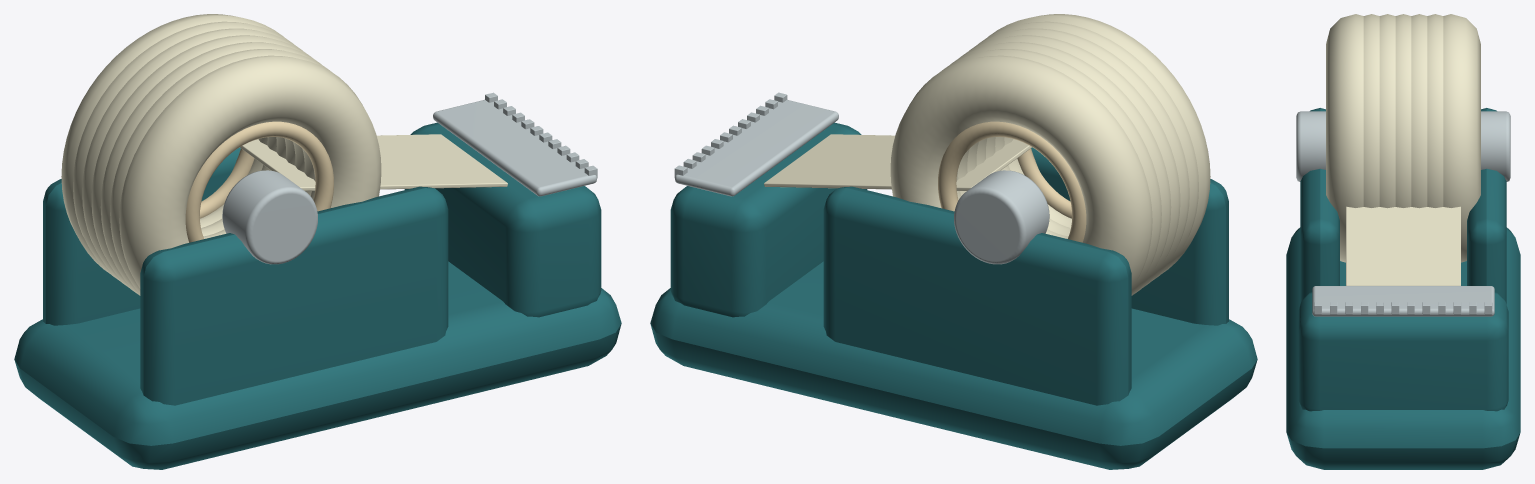
The model's file is tape-dispenser.glb.
3 views of the same model, side by side, from view 1: azimuth 30°, elevation 25°; view 2: azimuth 150°, elevation 25°; view 3: azimuth 270°, elevation 25° (orthographic). The views are drawn at different scales.
Visible parts, largest first — view 1: Tape dispenser weighted base, Tape dispenser side, Tape roll, Cutting pedestal, Tape dispenser side.001, Steel cutting blade, Tape axle, Unspooled tape, Tape roll.006, Cardboard core, Tape roll.005, Tape roll.004 (+4 smaller); view 2: Tape dispenser weighted base, Tape dispenser side.001, Tape roll.006, Cutting pedestal, Tape dispenser side, Steel cutting blade, Tape axle.001, Unspooled tape, Tape roll, Cardboard core.001, Tape roll.001, Tape roll.002 (+4 smaller); view 3: Cutting pedestal, Tape dispenser weighted base, Unspooled tape, Tape roll, Tape roll.006, Steel cutting blade, Tape dispenser side, Tape dispenser side.001, Tape roll.001, Tape roll.002, Tape roll.003, Tape roll.004 (+3 smaller).
Boxes of the visible parts, <box> form: Tape dispenser weighted base: <box>14,261,621,469</box>; Tape dispenser side: <box>140,186,448,405</box>; Tape roll: <box>119,55,381,288</box>; Cutting pedestal: <box>404,122,601,317</box>; Tape dispenser side.001: <box>43,147,240,325</box>; Steel cutting blade: <box>433,99,596,196</box>; Tape axle: <box>222,170,317,264</box>; Unspooled tape: <box>240,134,507,190</box>; Tape roll.006: <box>61,14,283,273</box>; Cardboard core: <box>185,121,333,242</box>; Tape roll.005: <box>73,21,292,280</box>; Tape roll.004: <box>82,28,302,287</box>; Tape dispenser weighted base: <box>650,261,1257,469</box>; Tape dispenser side.001: <box>823,186,1131,405</box>; Tape roll.006: <box>890,55,1152,288</box>; Cutting pedestal: <box>670,122,867,317</box>; Tape dispenser side: <box>1031,147,1228,325</box>; Steel cutting blade: <box>675,100,838,196</box>; Tape axle.001: <box>954,170,1049,264</box>; Unspooled tape: <box>764,134,1031,190</box>; Tape roll: <box>988,14,1210,273</box>; Cardboard core.001: <box>938,121,1086,242</box>; Tape roll.001: <box>979,21,1198,280</box>; Tape roll.002: <box>969,28,1189,287</box>; Cutting pedestal: <box>1298,292,1508,411</box>; Tape dispenser weighted base: <box>1286,227,1520,469</box>; Unspooled tape: <box>1346,206,1460,285</box>; Tape roll: <box>1326,14,1363,262</box>; Tape roll.006: <box>1443,14,1480,262</box>; Steel cutting blade: <box>1312,286,1494,316</box>; Tape dispenser side: <box>1300,108,1339,303</box>; Tape dispenser side.001: <box>1467,108,1506,303</box>; Tape roll.001: <box>1363,14,1379,207</box>; Tape roll.002: <box>1379,14,1395,208</box>; Tape roll.003: <box>1395,14,1411,207</box>; Tape roll.004: <box>1411,14,1427,208</box>.
Bounding box in the file's own units: 1.25 × 0.867 × 0.59.
